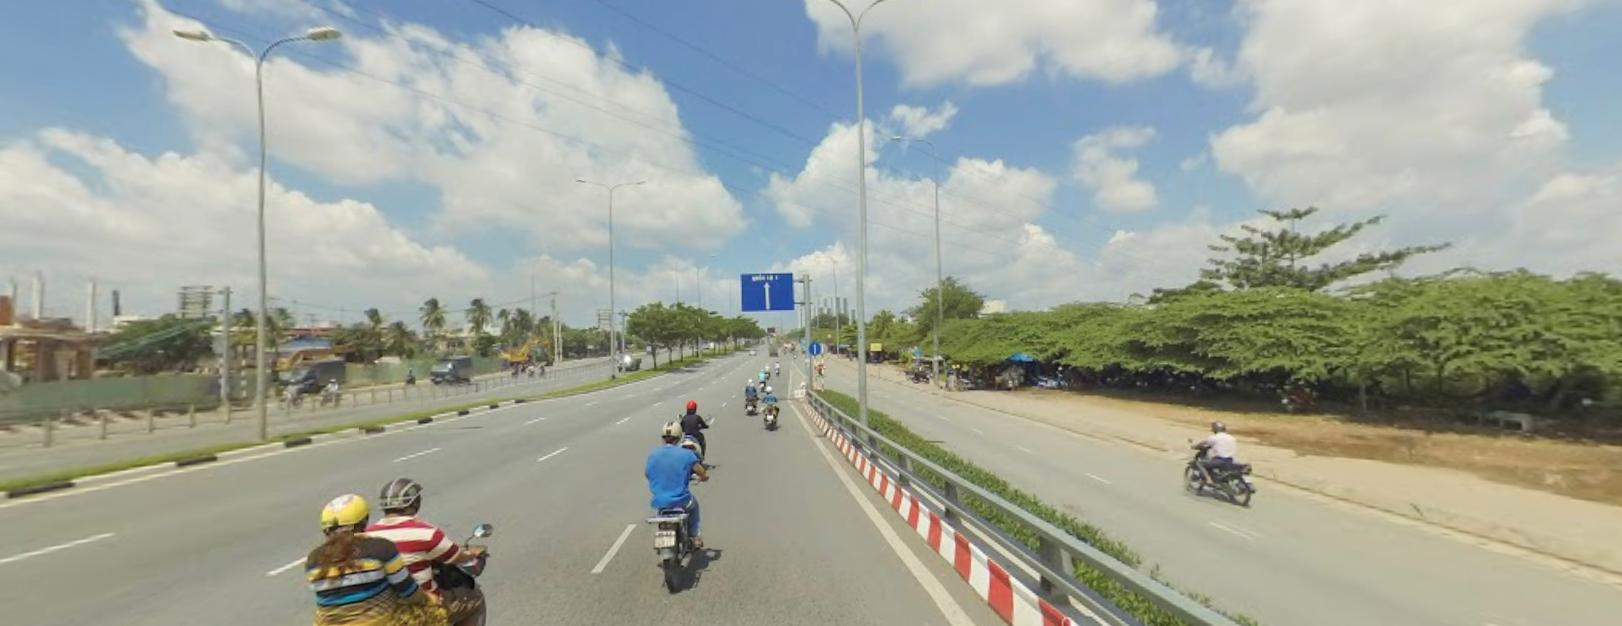Hieu lenh: (808, 340, 821, 354), (808, 341, 820, 353)
